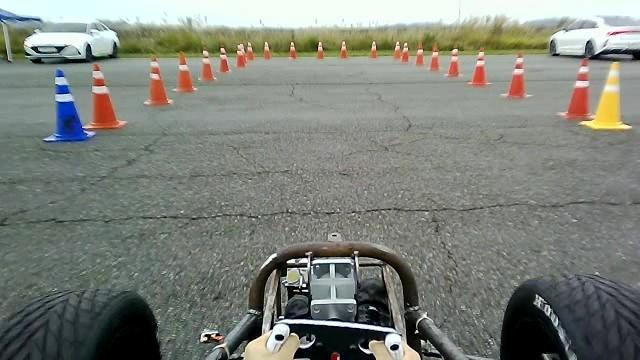blue cone: (42, 68, 94, 142)
red cone: (81, 62, 128, 129), (555, 56, 595, 120), (501, 53, 534, 101), (144, 54, 172, 104), (171, 50, 198, 92), (467, 47, 492, 85), (197, 49, 217, 82), (445, 48, 460, 77)
yellow cone: (577, 60, 632, 130)
